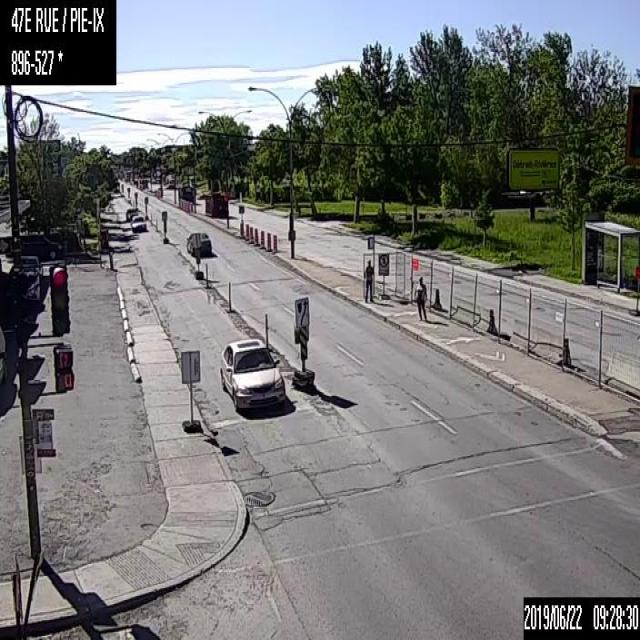construction: (264, 313, 268, 344), (227, 281, 231, 312), (272, 232, 276, 254), (260, 228, 264, 248), (266, 231, 270, 250), (248, 225, 252, 244), (254, 226, 258, 245), (205, 263, 208, 288), (239, 219, 243, 237), (245, 222, 249, 240)
pedestrian: (413, 275, 427, 320), (362, 259, 374, 304)
vehicle: (218, 335, 286, 409), (5, 235, 60, 260), (11, 254, 43, 282), (184, 231, 212, 256), (204, 191, 228, 217), (130, 213, 146, 232), (125, 207, 137, 221)
